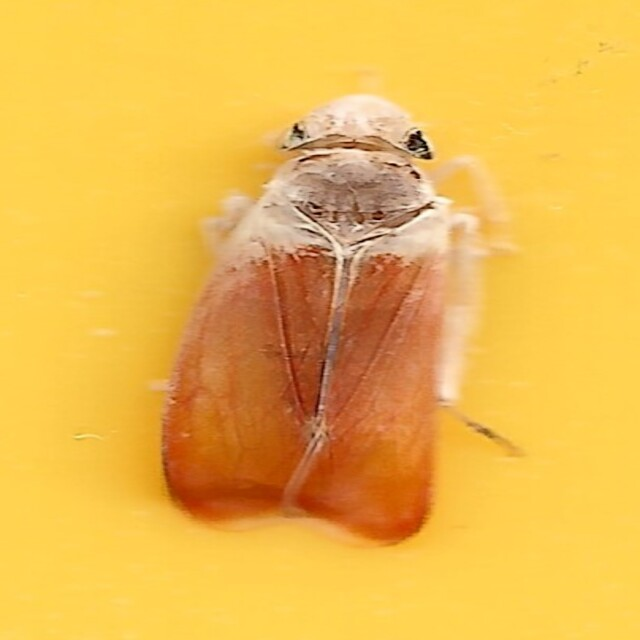Hemiptera: (158, 93, 482, 547)
